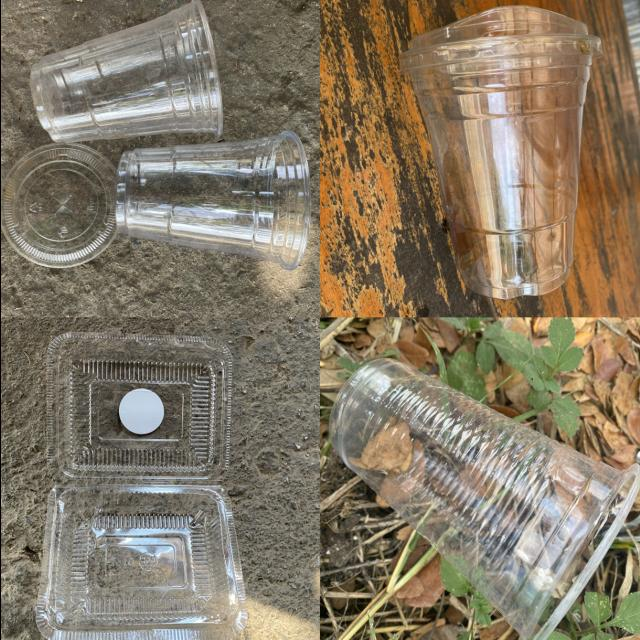plastik: (329, 359, 640, 640), (399, 5, 602, 299), (36, 485, 246, 640), (30, 0, 221, 143), (46, 332, 231, 479), (116, 131, 310, 270), (0, 143, 116, 268)
